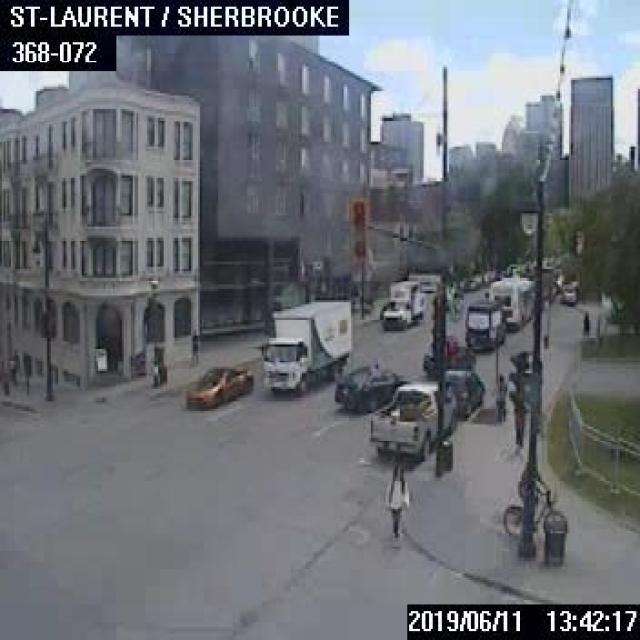bus: (483, 275, 533, 329)
cyclist: (500, 458, 567, 534)
pedestrian: (388, 460, 408, 536), (493, 369, 506, 418), (7, 349, 18, 384), (189, 331, 198, 360), (580, 308, 588, 336)
vehicle: (261, 298, 349, 392), (369, 379, 455, 459), (333, 359, 412, 411), (187, 362, 251, 407), (436, 368, 484, 415), (378, 278, 422, 328), (463, 299, 505, 351), (420, 334, 475, 371), (458, 278, 476, 290)
